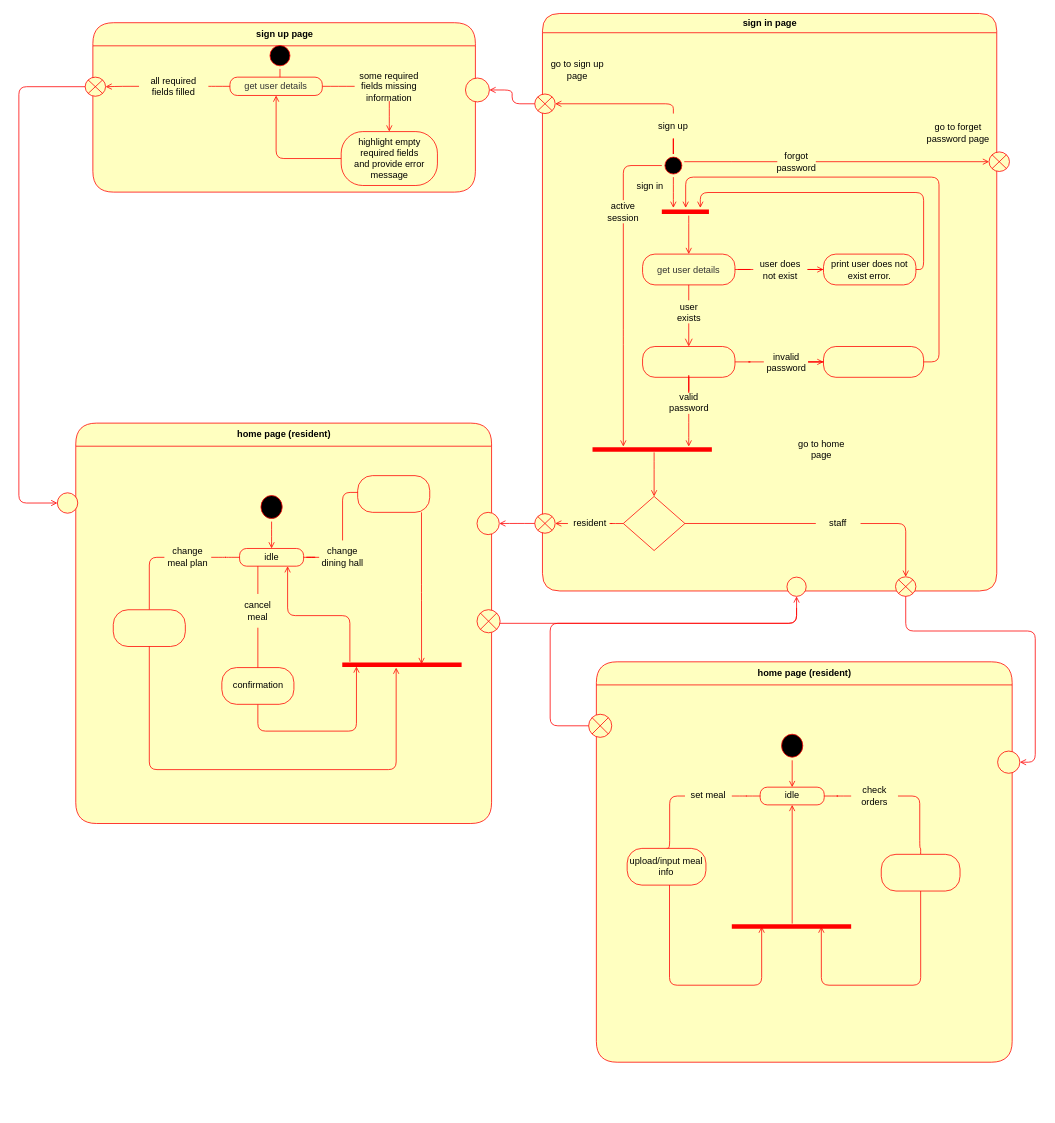
This 1055x1123 diagram has some shape labels left out. The centre of each missing label's shape, as x and y in pixels:
check user type: the point at 654,523
go to orders tab: the point at 920,872
print invalid password error: the point at 873,361
select dining hall: the point at 393,493
select meal plan: the point at 148,627
validate login: the point at 688,361
